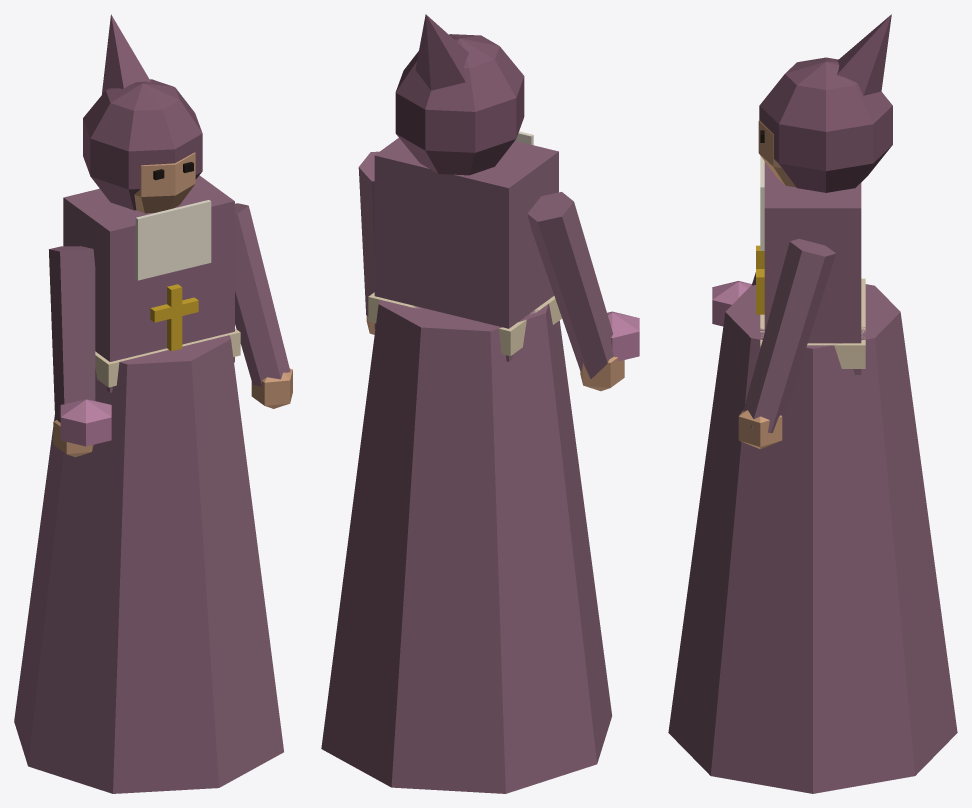
File: heideschwester.glb
3 views of the same model, side by side, from view 1: azimuth 30°, elevation 25°; view 2: azimuth 150°, elevation 25°; view 3: azimuth 270°, elevation 25° (orthographic). The views are drawn at different scales.
Size of the model in its own units: 0.6693 by 1.81 by 0.66.
1 material, 1 textured.
